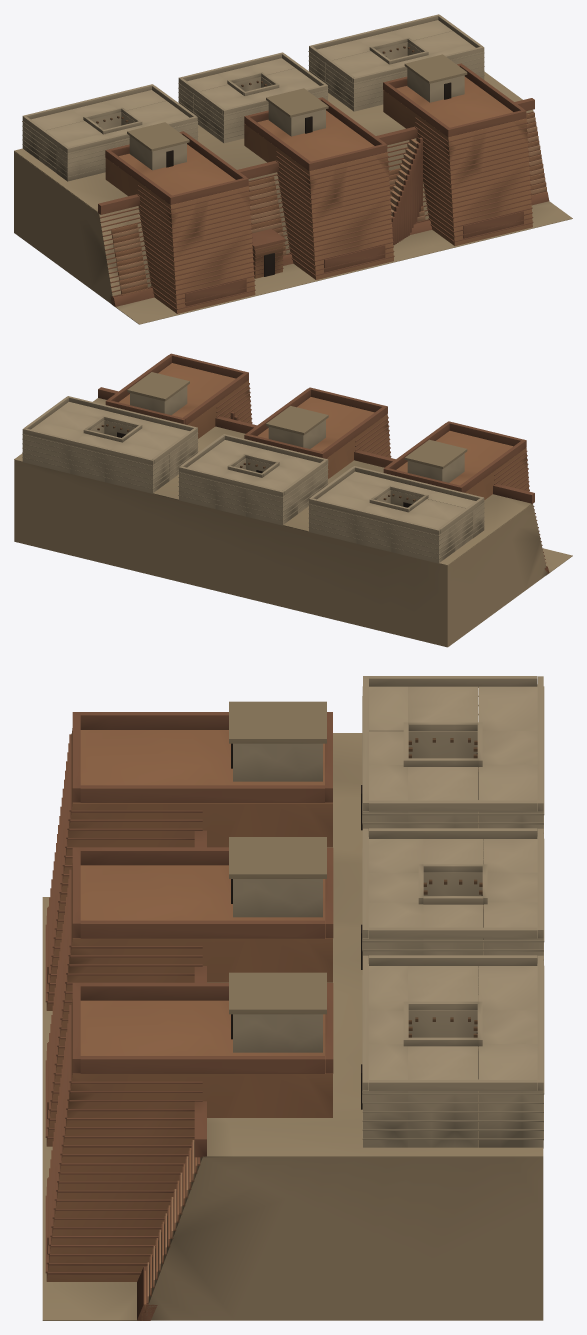
Rendered from southern-defences.glb.
3 renders of one model, top to bottom at view 1: azimuth 30°, elevation 25°; view 2: azimuth 150°, elevation 25°; view 3: azimuth 270°, elevation 25°, orthographic. The views are drawn at different scales.
Parts seen in each view (by area): view 1: p1_towers, postern and stair, p2_parapet and buildings, p0_platform face; view 2: p0_platform face, p2_parapet and buildings, p1_towers, postern and stair; view 3: p1_towers, postern and stair, p2_parapet and buildings, p0_platform face.
Part boxes in pixels (left/top/right/bottom): p1_towers, postern and stair: left=105, top=54, right=533, bottom=313; p2_parapet and buildings: left=14, top=14, right=534, bottom=214; p0_platform face: left=14, top=109, right=572, bottom=324; p0_platform face: left=14, top=460, right=572, bottom=647; p2_parapet and buildings: left=14, top=387, right=534, bottom=565; p1_towers, postern and stair: left=105, top=353, right=529, bottom=499; p1_towers, postern and stair: left=45, top=701, right=333, bottom=1281; p2_parapet and buildings: left=194, top=676, right=544, bottom=1157; p0_platform face: left=42, top=897, right=543, bottom=1320.
Bounding box in the file's own units: 50.04 × 13.97 × 25.06.
